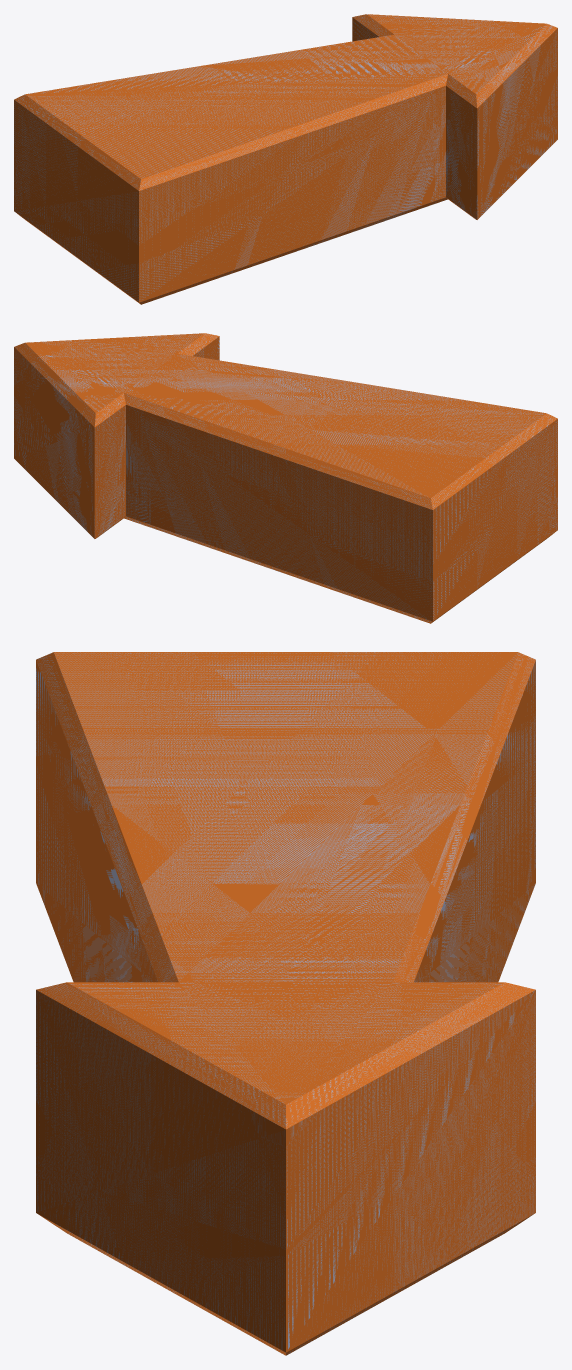
File: arrow.fbx
3 views of the same model, one above another, from view 1: azimuth 30°, elevation 25°; view 2: azimuth 150°, elevation 25°; view 3: azimuth 270°, elevation 25° (orthographic). The views are drawn at different scales.
Parts seen in each view (by area): view 1: Group1; view 2: Group1; view 3: Group1.
Part boxes in pixels (left/top/right/bottom): Group1: left=14, top=14, right=557, bottom=304; Group1: left=14, top=333, right=557, bottom=623; Group1: left=36, top=652, right=535, bottom=1355.
Size of the model in its own units: 72.25 by 18 by 32.5.
